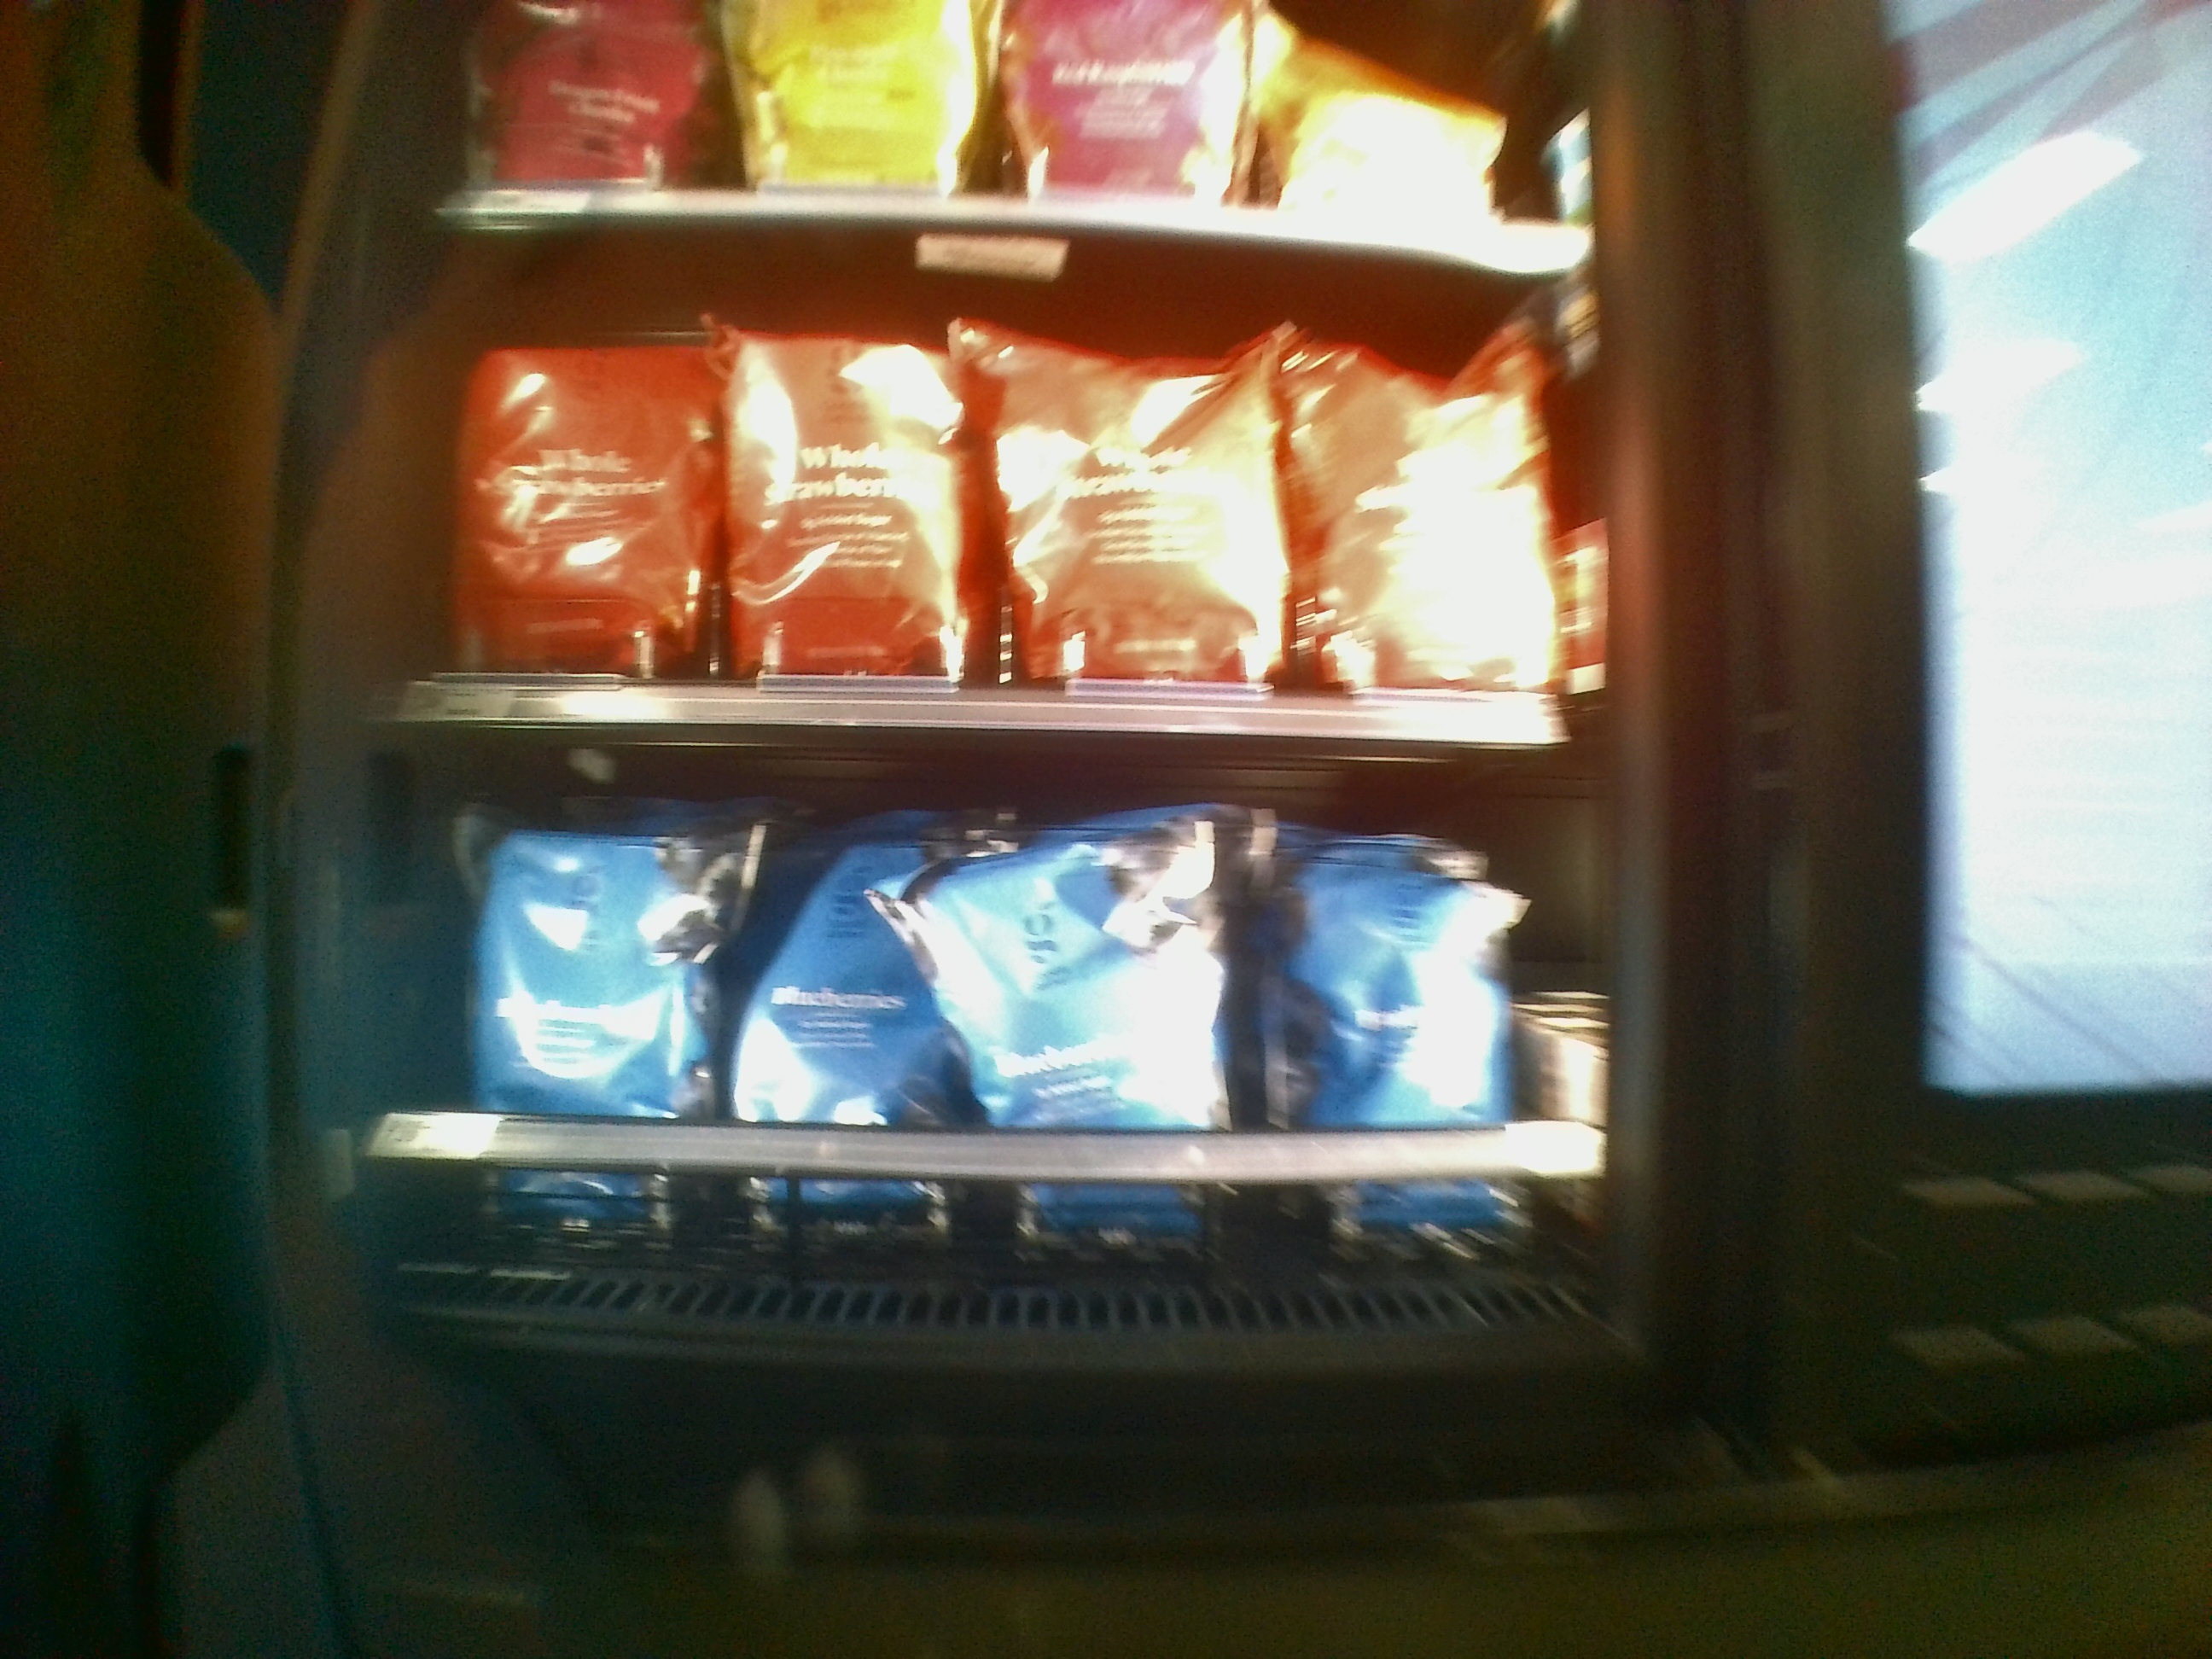shelf: (374, 734, 1599, 1302), (390, 268, 1594, 732)
